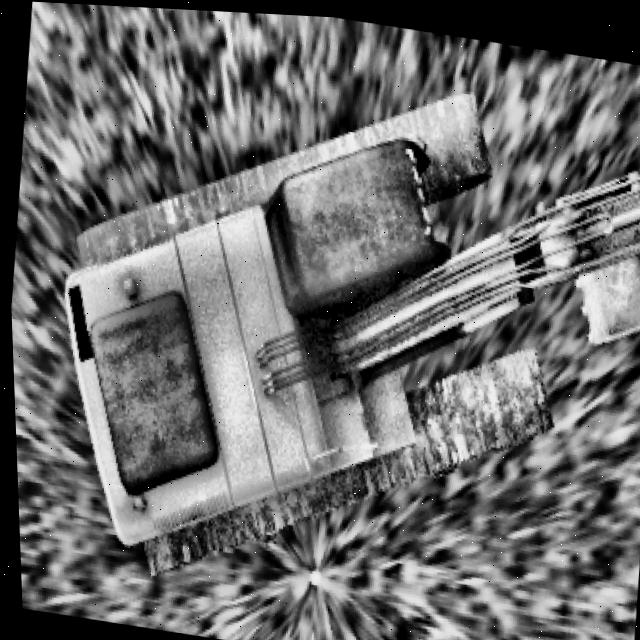excavator: (24, 1, 640, 640)
